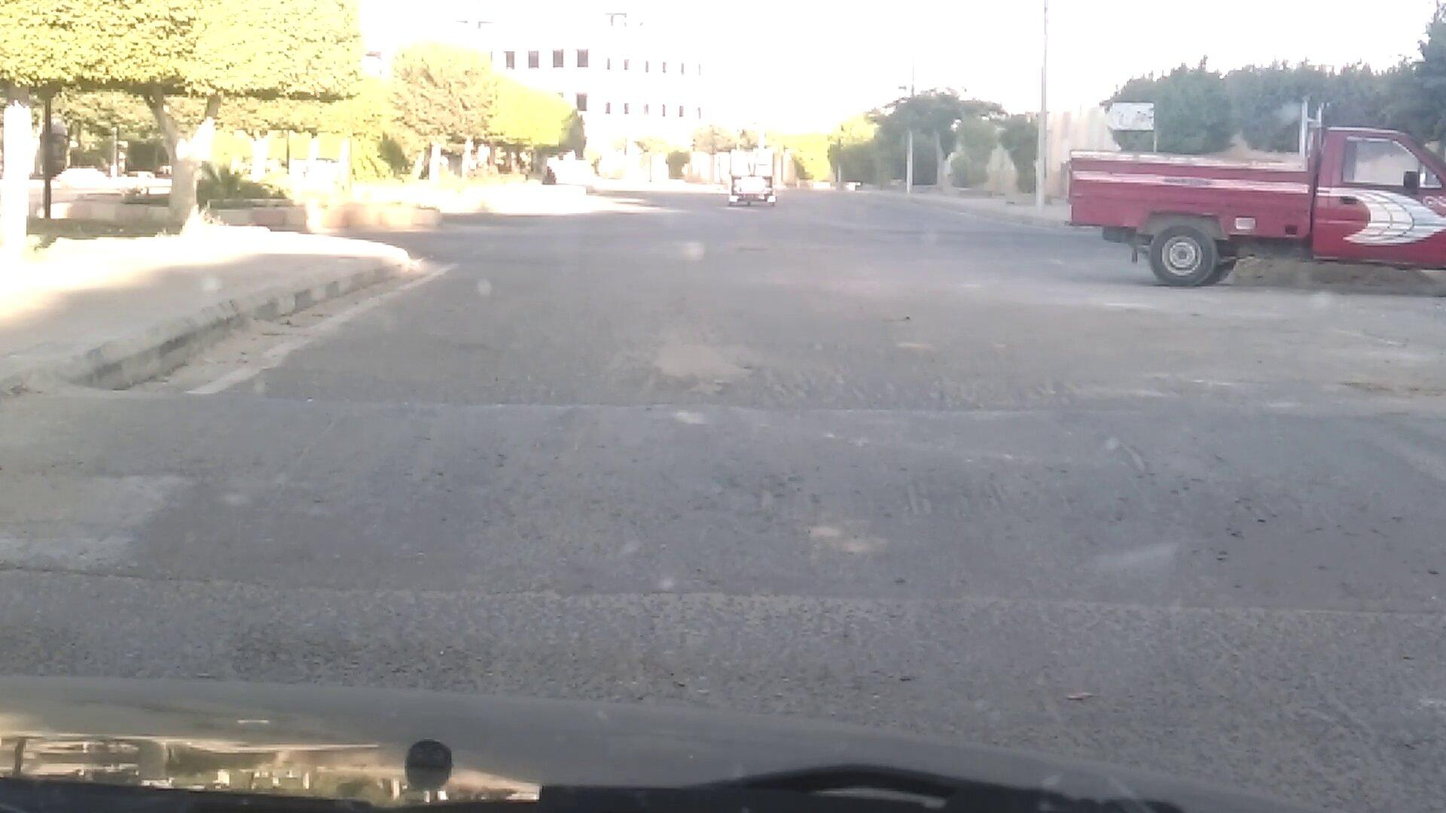Bump: (92, 386, 1442, 621)
